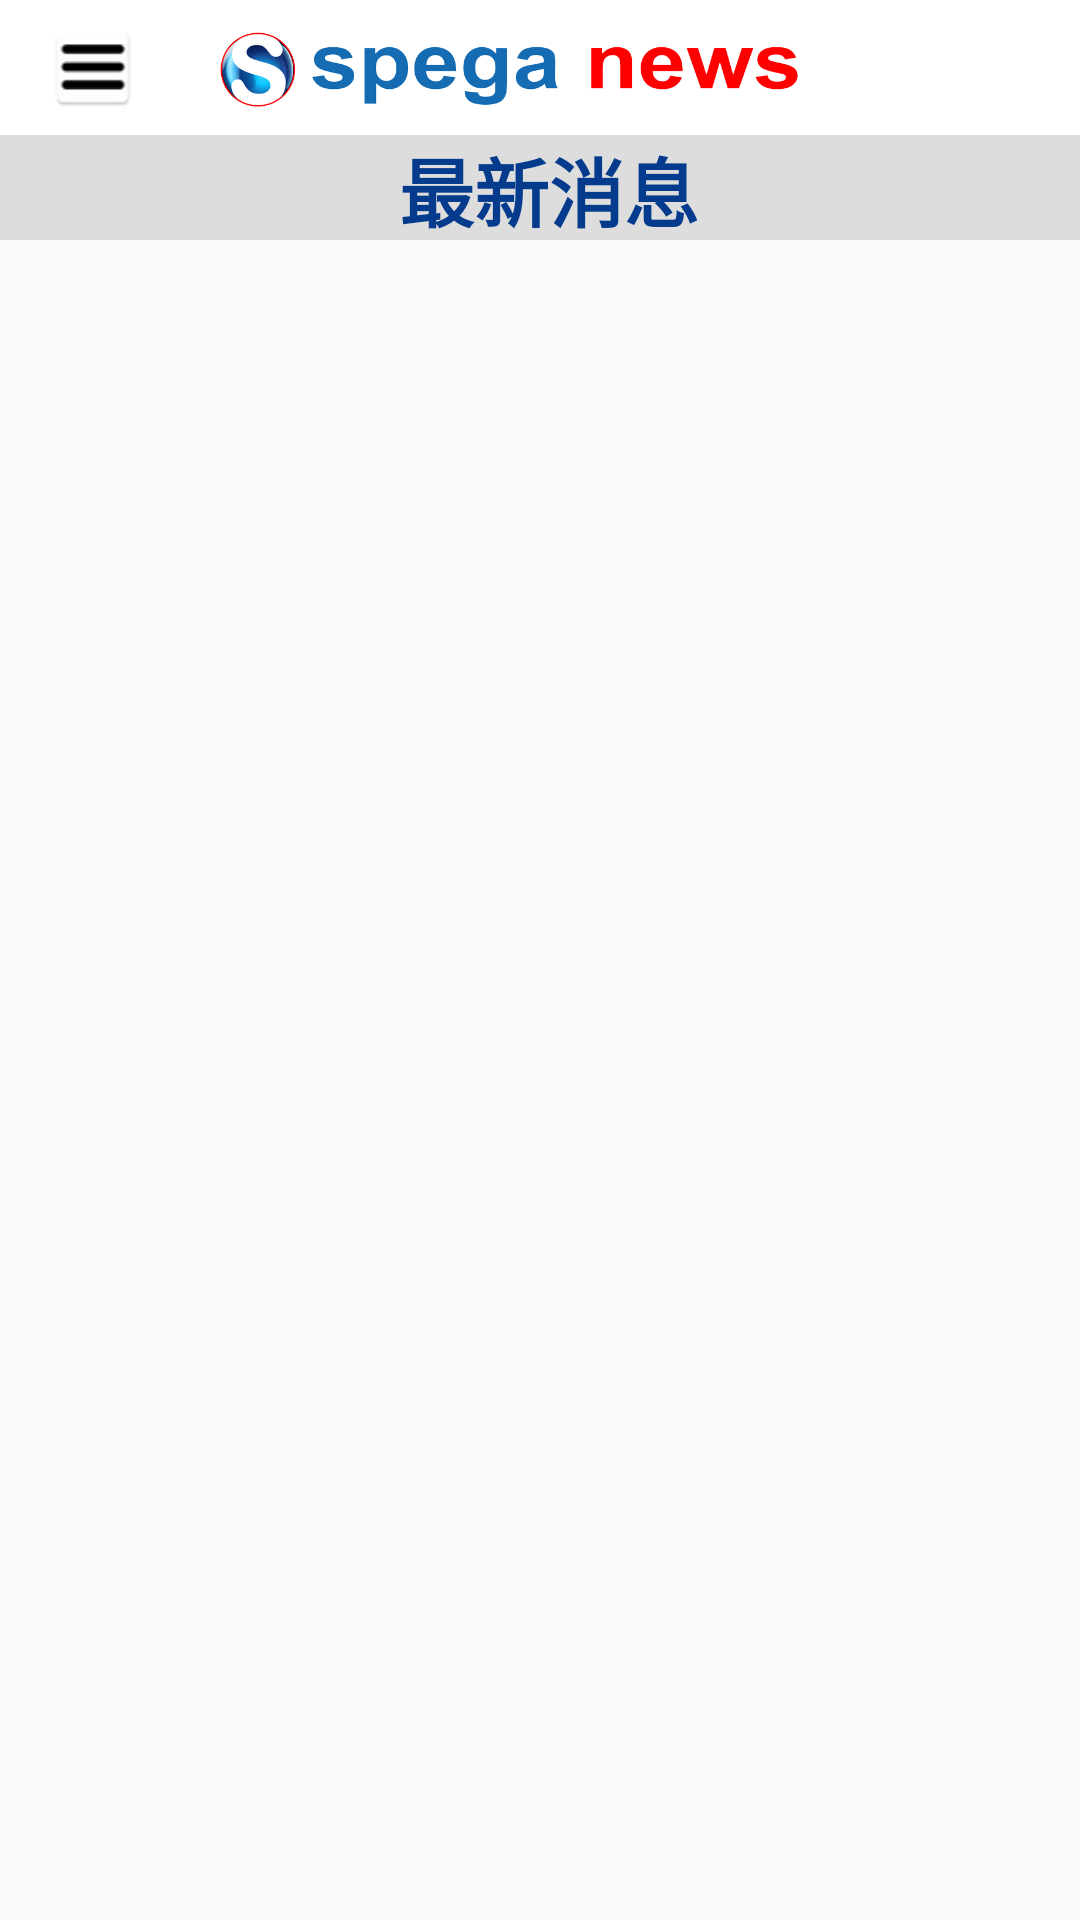

Locate icon controls on the screen. Image size 1080*1920, boxes as BBox(x1, y1, x2, y2).
menuicon: BBox(58, 44, 128, 105)
